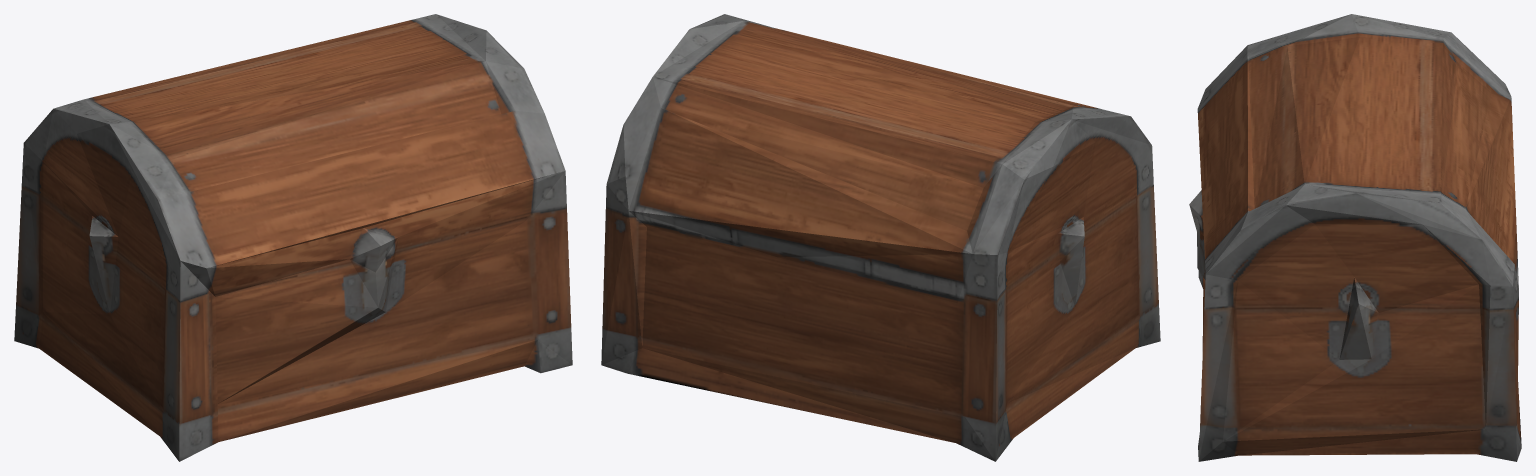
Rendered from chest_lod1.glb.
3 renders of one model, left to right at view 1: azimuth 30°, elevation 25°; view 2: azimuth 150°, elevation 25°; view 3: azimuth 270°, elevation 25°, orthographic. The views are drawn at different scales.
Parts seen in each view (by area): view 1: geometry_0; view 2: geometry_0; view 3: geometry_0.
Part boxes in pixels (x1=…): geometry_0: x1=14, y1=14, x2=572, y2=461; geometry_0: x1=601, y1=14, x2=1160, y2=461; geometry_0: x1=1189, y1=14, x2=1521, y2=461.
Bounding box in the file's own units: 1.01 × 0.6593 × 0.739.
Materials: 1 (1 with a texture image).
